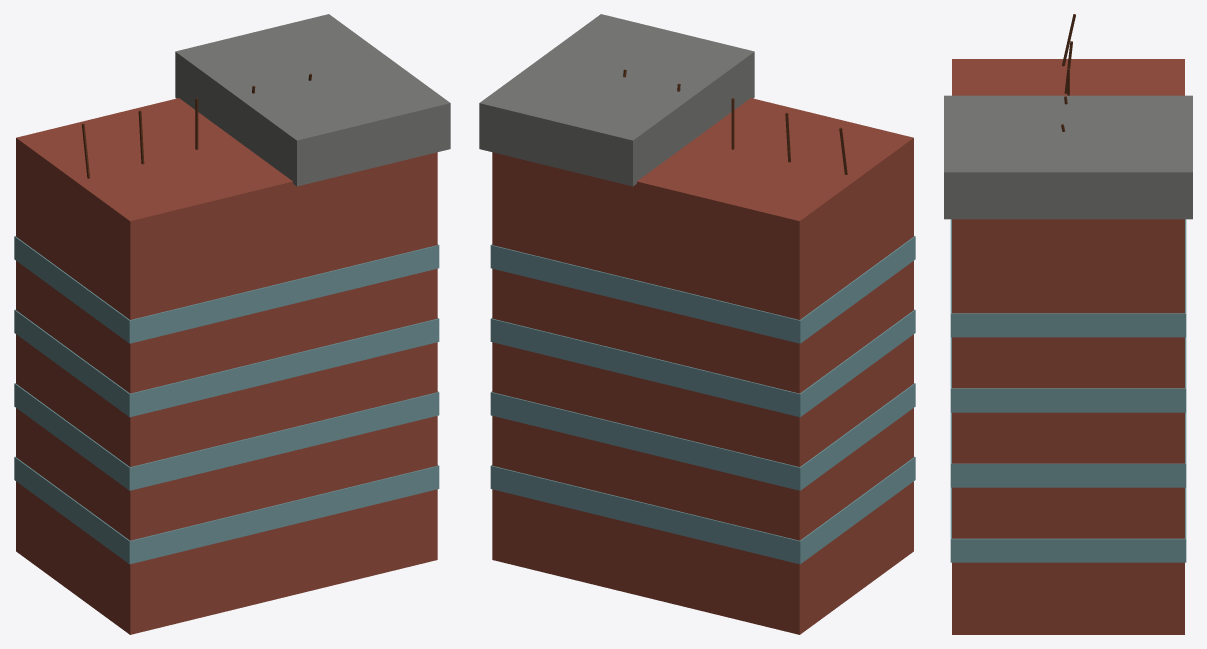
The model's file is ruined_apartment.glb.
The picture shows the model from 3 angles, left to right: view 1: azimuth 30°, elevation 25°; view 2: azimuth 150°, elevation 25°; view 3: azimuth 270°, elevation 25°; orthographic projection. The views are drawn at different scales.
Visible parts, largest first — view 1: ruined_apartment; view 2: ruined_apartment; view 3: ruined_apartment.
Part boxes in pixels (x1=…): ruined_apartment: x1=14, y1=14, x2=450, y2=634; ruined_apartment: x1=479, y1=14, x2=915, y2=634; ruined_apartment: x1=944, y1=14, x2=1192, y2=634.
Size of the model in its own units: 7.24 by 10.1 by 4.8.
